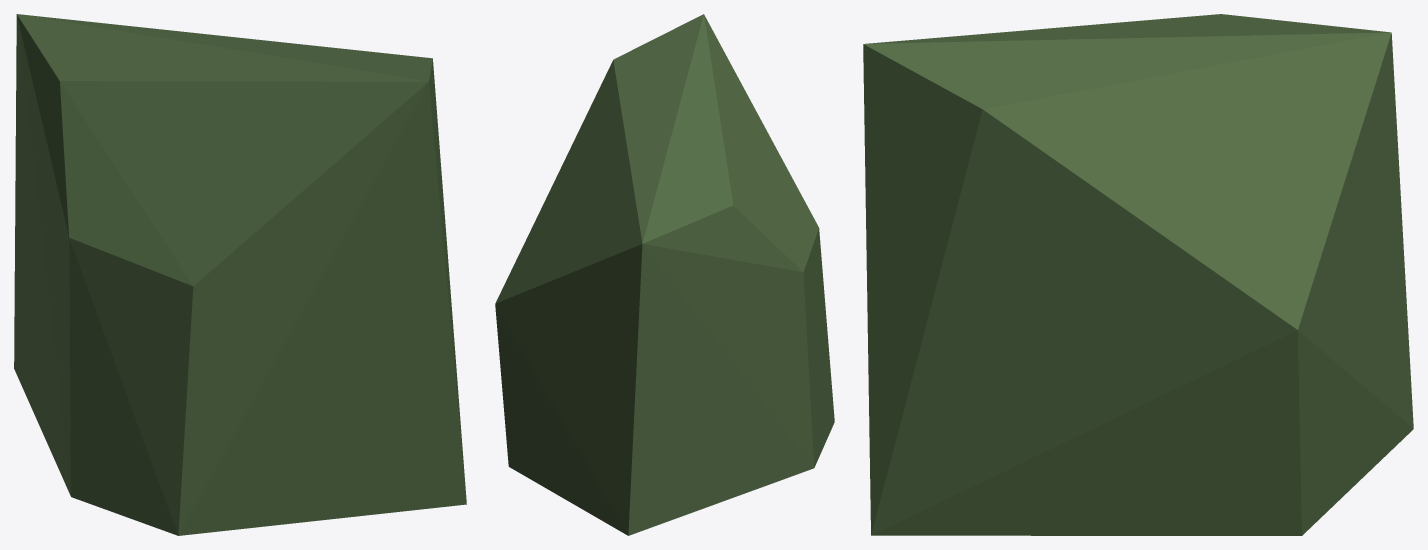
File: Grass_Short.lod4.glb
The picture shows the model from 3 angles, left to right: view 1: azimuth 30°, elevation 25°; view 2: azimuth 150°, elevation 25°; view 3: azimuth 270°, elevation 25°; orthographic projection. The views are drawn at different scales.
Visible parts, largest first — view 1: Grass_Short; view 2: Grass_Short; view 3: Grass_Short.
Part boxes in pixels (x1,y1,x2,y2): Grass_Short: (14, 14, 466, 535); Grass_Short: (495, 14, 834, 535); Grass_Short: (863, 14, 1413, 535).
Bounding box in the file's own units: 0.3049 × 0.4074 × 0.4327.
